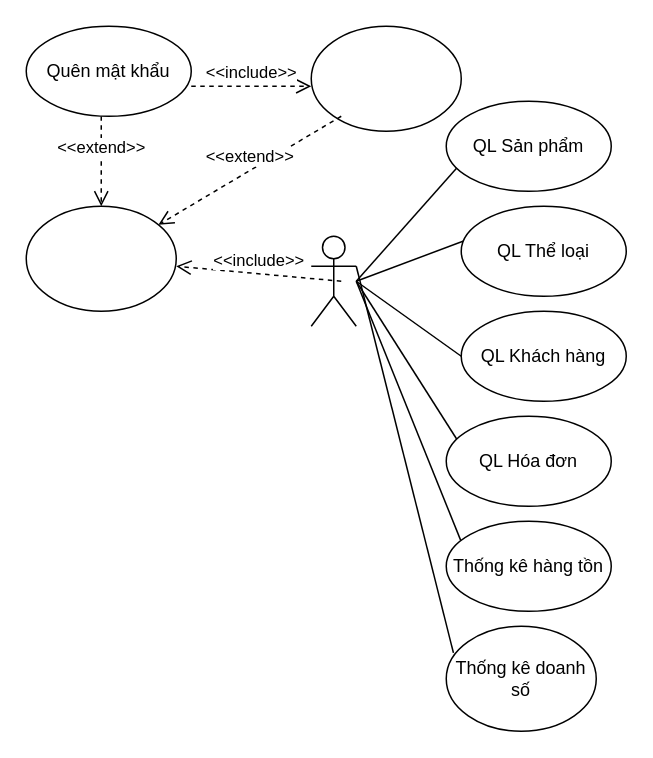
Image size: 653x758. Some labels were removed from this diagram. Each missing label, with the centre of its shape:
"Admin" belongs at [333,280].
"Lấy lại qua email" belongs at [385,78].
"Đăng nhập" belongs at [100,258].
